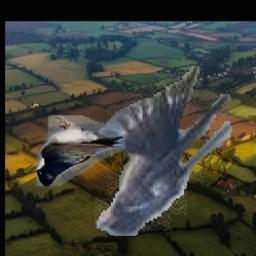Swallow: (95, 62, 232, 236), (35, 115, 124, 186)
